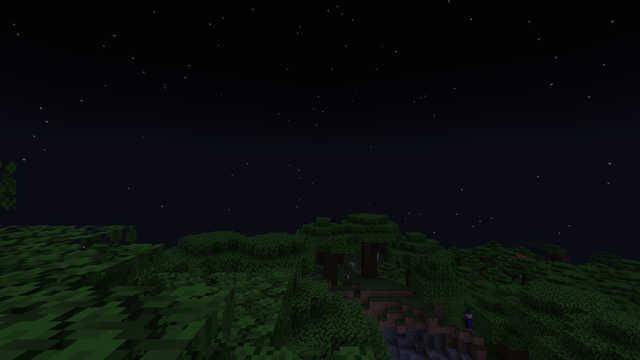sorcieres: (464, 310, 472, 330)
